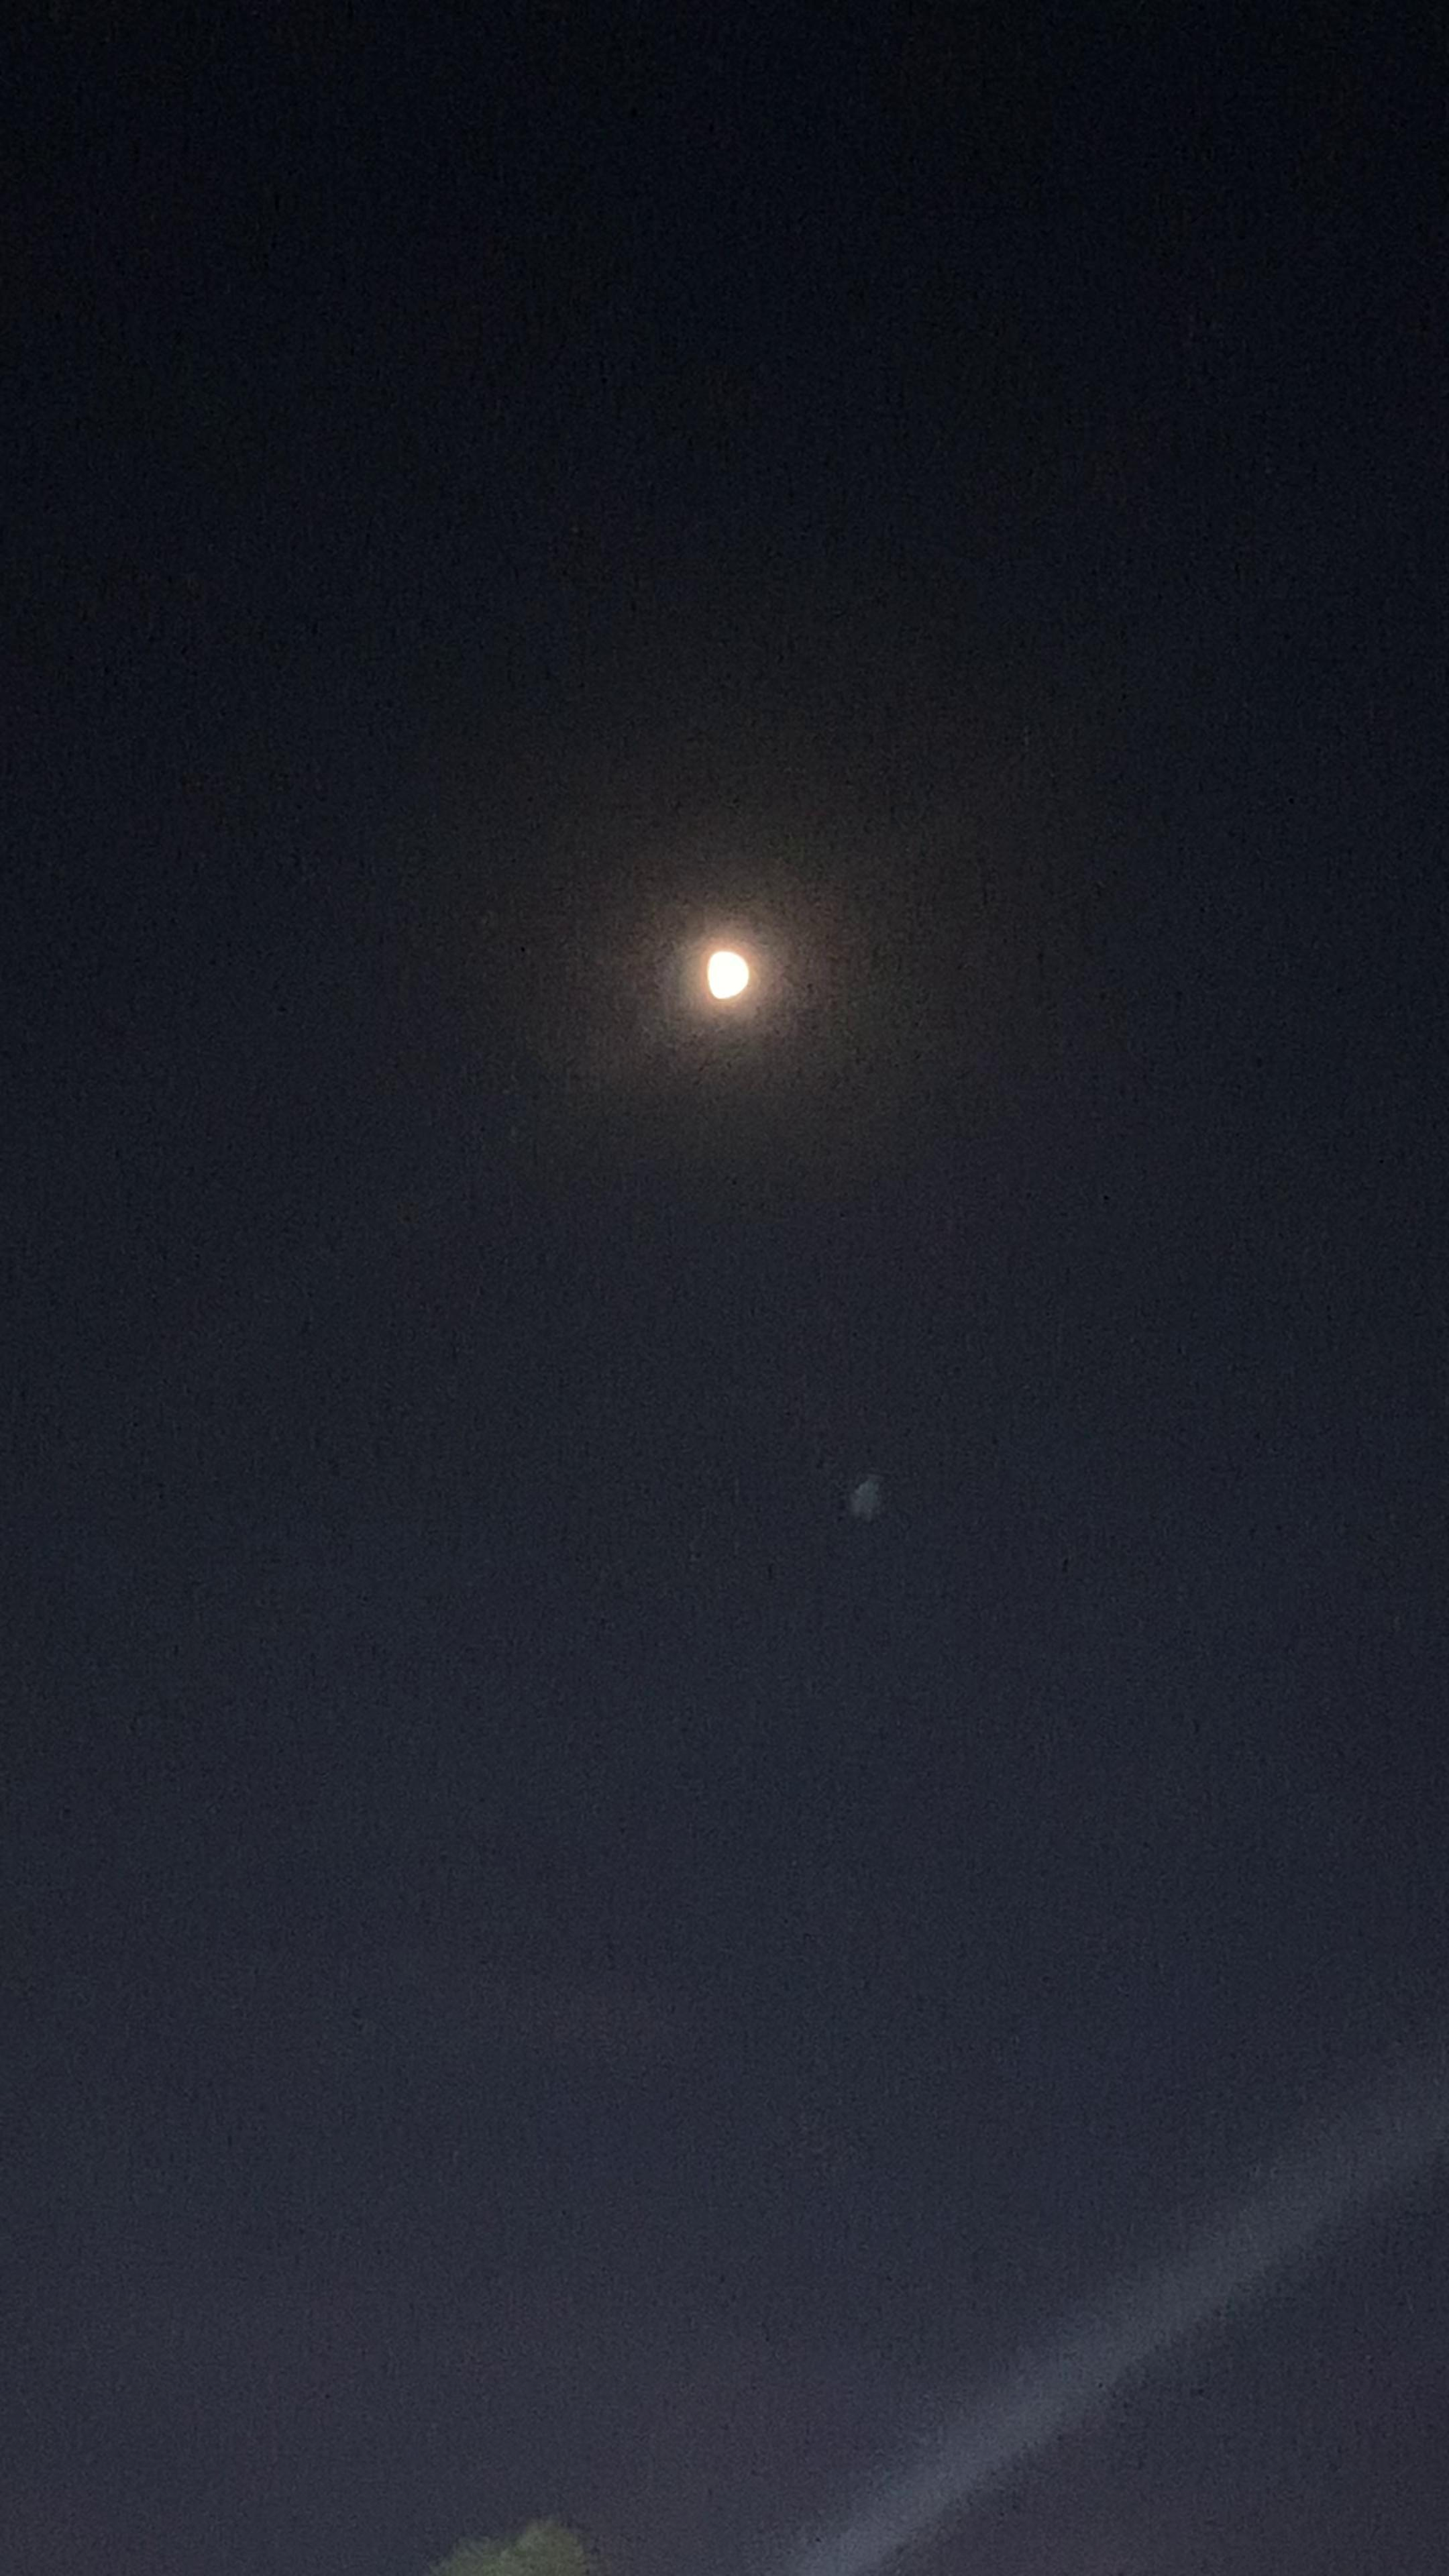moon: (685, 909, 786, 1026)
